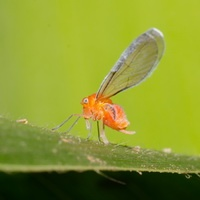insect: (53, 28, 164, 143)
